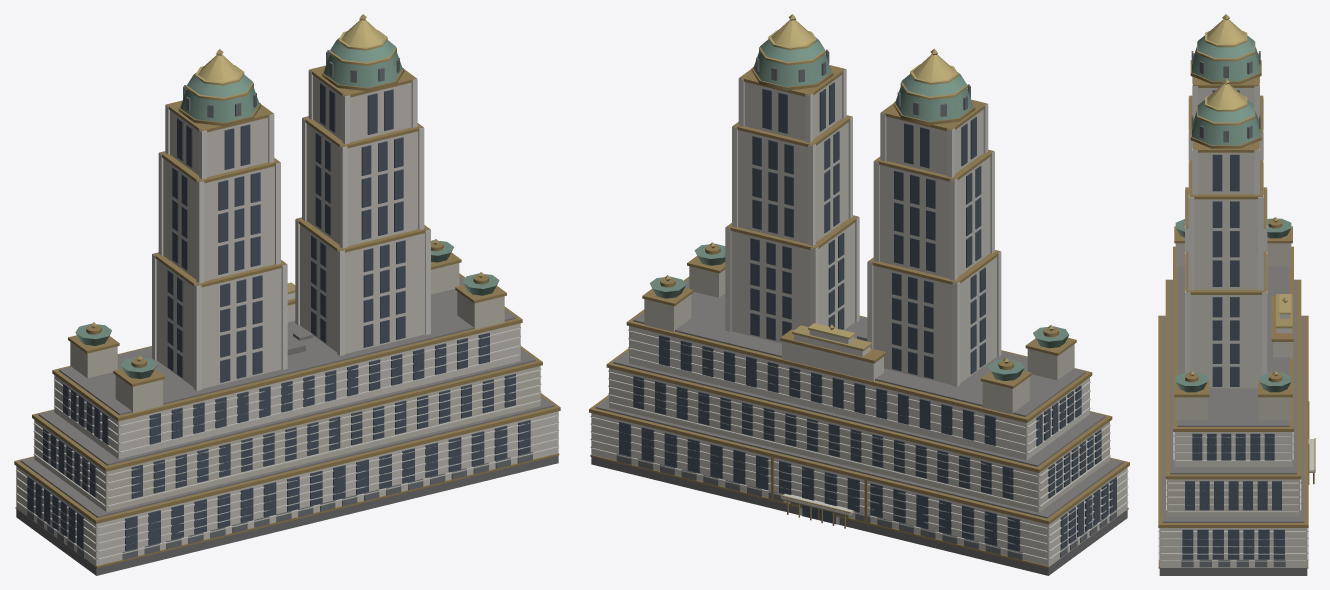
Rendered from waldorf.glb.
3 views of the same model, side by side, from view 1: azimuth 30°, elevation 25°; view 2: azimuth 150°, elevation 25°; view 3: azimuth 270°, elevation 25° (orthographic). The views are drawn at different scales.
Visible parts, largest first — view 1: waldorf; view 2: waldorf; view 3: waldorf.
Boxes of the visible parts, x1,y1,x2,y2 form: waldorf: (14,14,560,575); waldorf: (589,14,1129,575); waldorf: (1158,14,1315,575).
Size of the model in its own units: 201 by 191 by 64.
